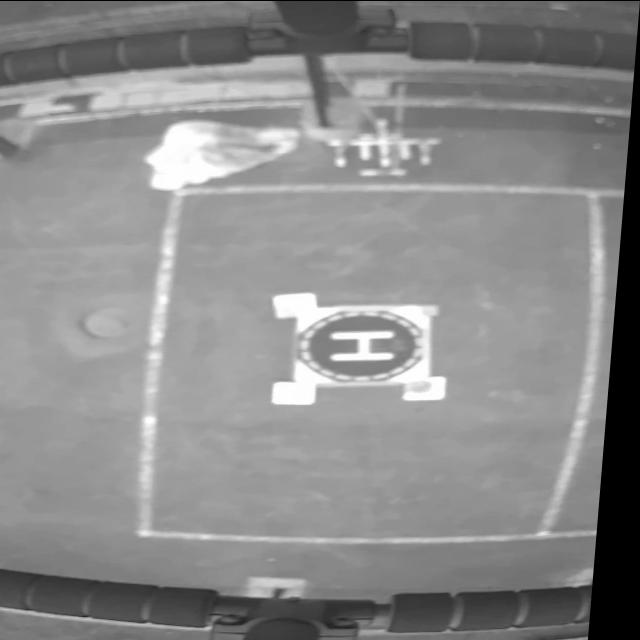Helipad: (337, 330, 401, 360)
